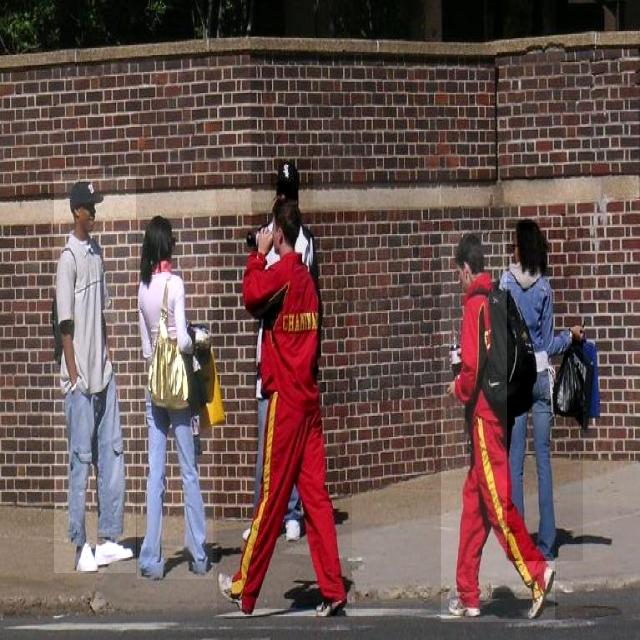with scooter: (217, 202, 352, 615), (442, 234, 556, 622), (54, 174, 136, 573), (137, 217, 213, 579), (507, 223, 583, 561), (271, 155, 313, 207)
